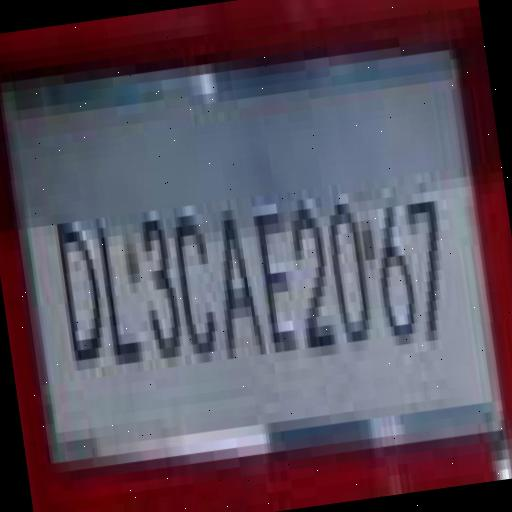number plate: (0, 21, 495, 484)
